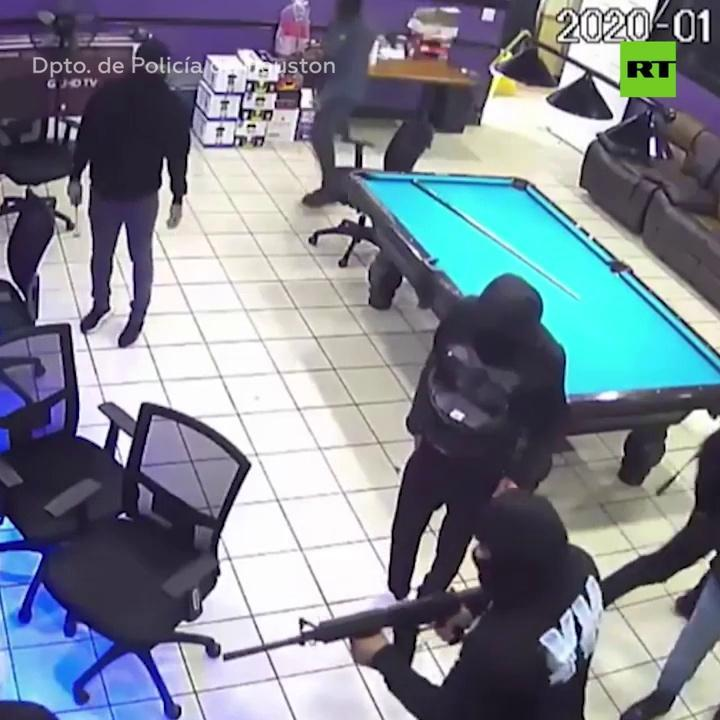Long guns: (217, 579, 483, 679)
